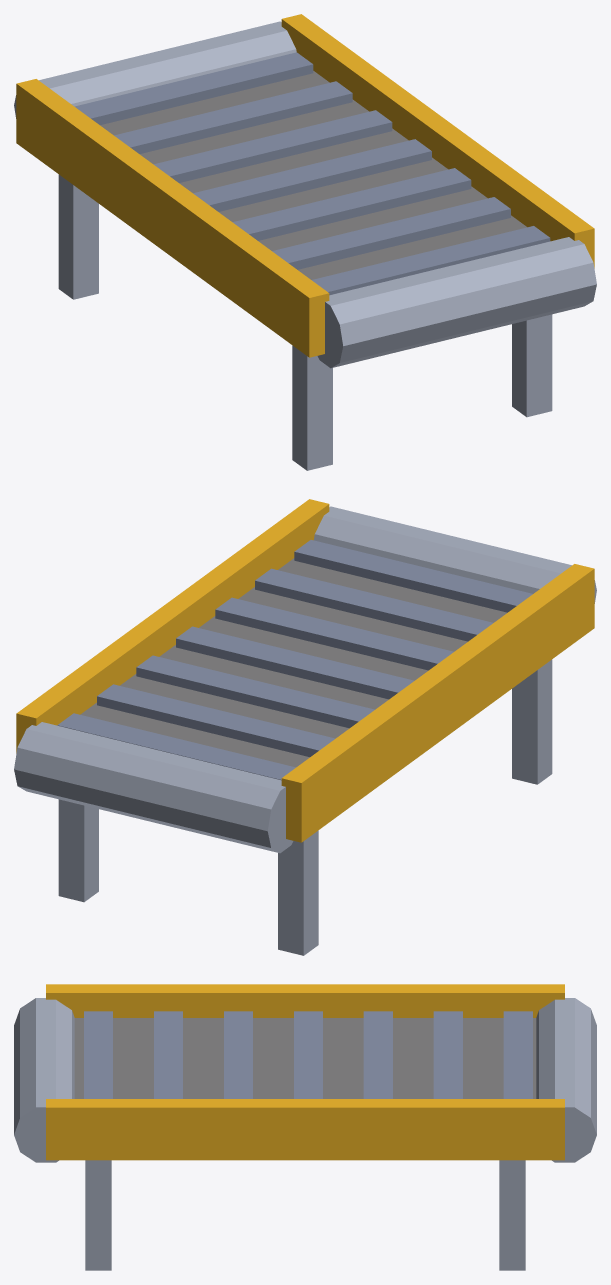
File: conveyor.glb
3 renders of one model, top to bottom at view 1: azimuth 30°, elevation 25°; view 2: azimuth 150°, elevation 25°; view 3: azimuth 270°, elevation 25°, orthographic. The views are drawn at different scales.
Parts seen in each view (by area): view 1: conveyor; view 2: conveyor; view 3: conveyor.
Part boxes in pixels (<box>): conveyor: <box>14,14,596,470</box>; conveyor: <box>14,499,596,955</box>; conveyor: <box>14,984,596,1270</box>.
Size of the model in its own units: 1 by 0.65 by 2.
